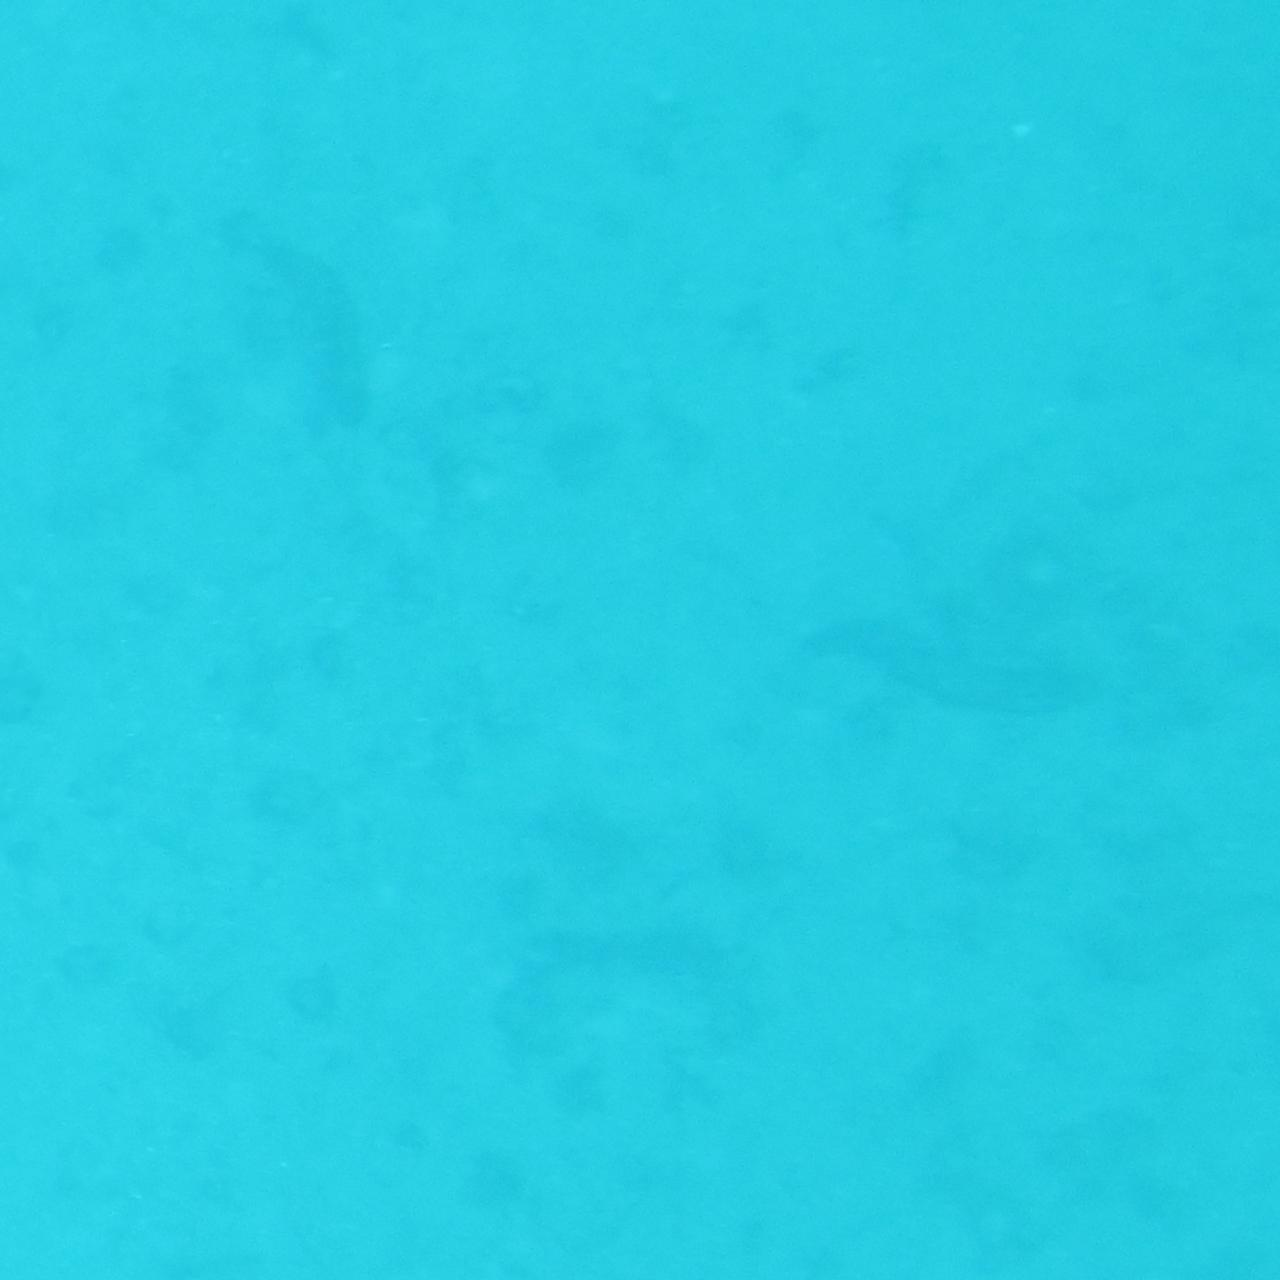Holothuria tubulosa: (794, 600, 1124, 738), (245, 222, 400, 448), (513, 899, 763, 990)
